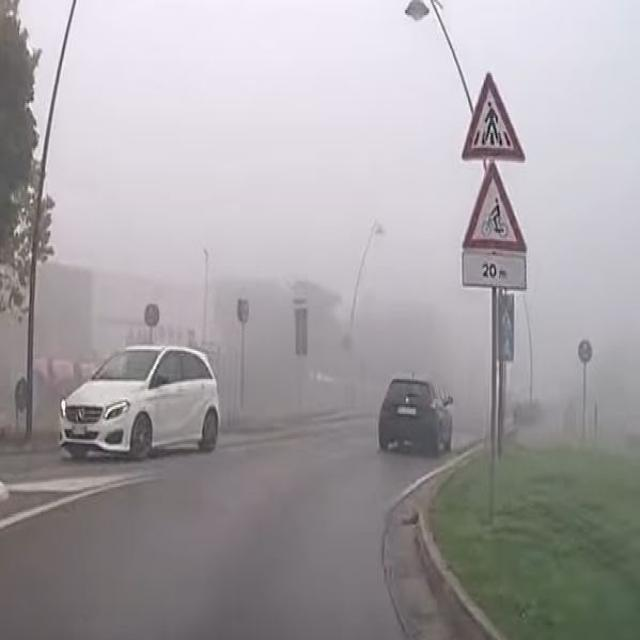Pedestrian crosswalk: (458, 71, 527, 162), (496, 298, 514, 334)
